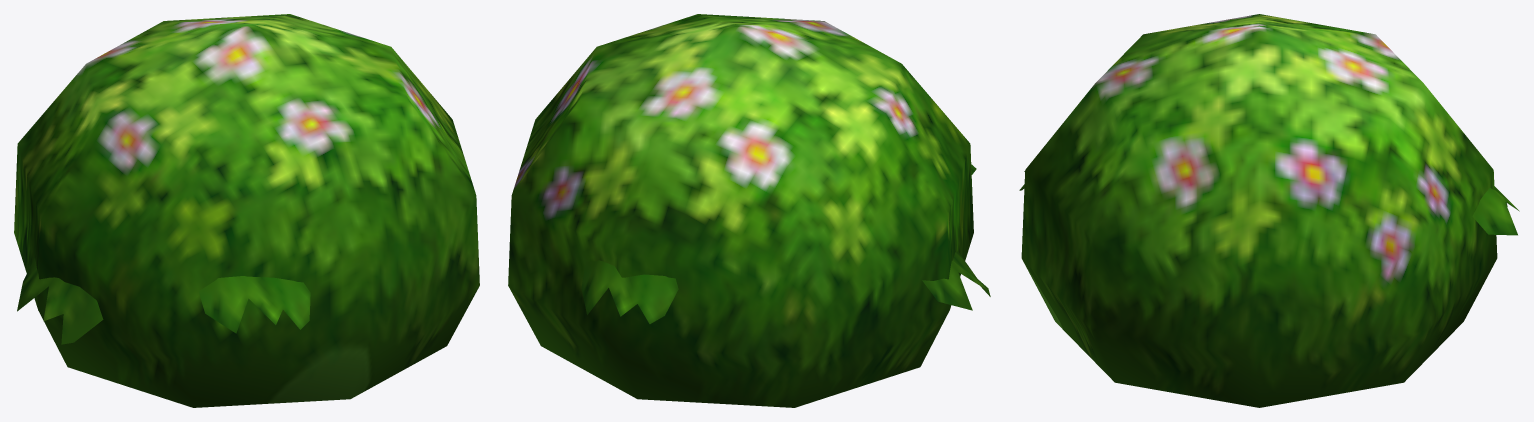
Rendered from gk_plant002_02.FBX.
3 renders of one model, left to right at view 1: azimuth 30°, elevation 25°; view 2: azimuth 150°, elevation 25°; view 3: azimuth 270°, elevation 25°, orthographic.
Parts seen in each view (by area): view 1: gk_plant002_02; view 2: gk_plant002_02; view 3: gk_plant002_02.
Boxes of the visible parts, x1,y1,x2,y2 form: gk_plant002_02: (14,14,479,407); gk_plant002_02: (508,14,990,407); gk_plant002_02: (1019,14,1519,407).
Bounding box in the file's own units: 96.04 × 61.92 × 96.03.
